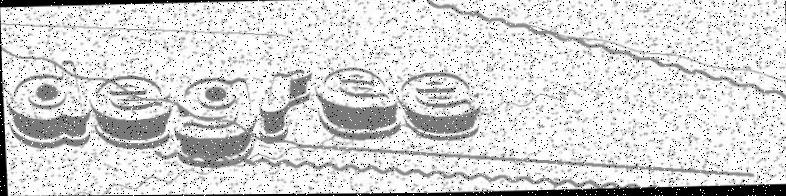d: (2, 56, 94, 149)
e: (315, 65, 401, 141), (89, 71, 172, 149), (397, 68, 482, 141)
g: (169, 72, 257, 171)
r: (257, 67, 316, 142)
